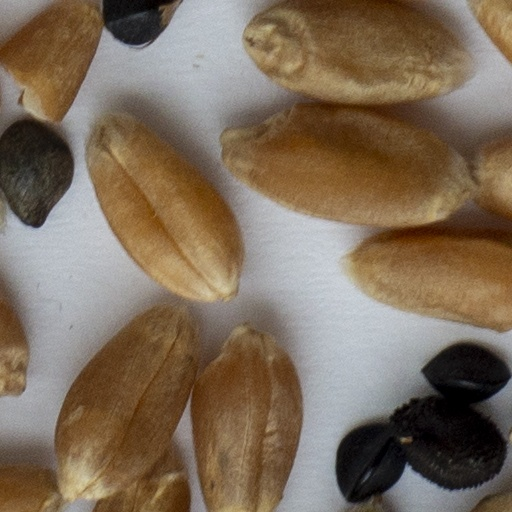Convolvulus-poly: (0, 119, 75, 231)
Fallopia-Сonvolvulus-poly: (101, 0, 186, 50)
Wheat-grain-damaged-poly: (0, 0, 103, 124)
